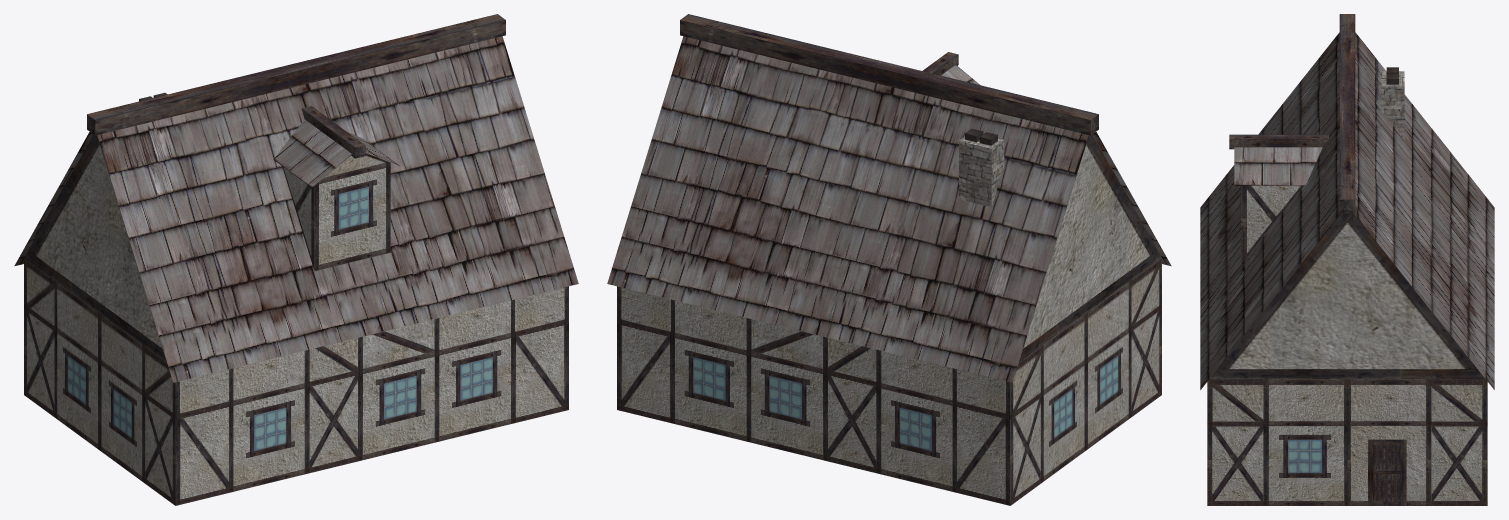
File: MedievalHouse_002.dae
3 renders of one model, left to right at view 1: azimuth 30°, elevation 25°; view 2: azimuth 150°, elevation 25°; view 3: azimuth 270°, elevation 25°, orthographic. The views are drawn at different scales.
Visible parts, largest first — view 1: MedievalHouse_002; view 2: MedievalHouse_002; view 3: MedievalHouse_002.
Part boxes in pixels (x1=…): MedievalHouse_002: x1=14, y1=14, x2=578, y2=505; MedievalHouse_002: x1=607, y1=14, x2=1171, y2=505; MedievalHouse_002: x1=1200, y1=14, x2=1494, y2=505.
Size of the model in its own units: 56.4 by 37.85 by 44.
Materials: 1 (1 with a texture image).
